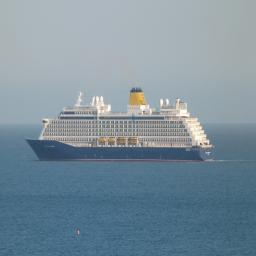cruises: (24, 85, 217, 167)
